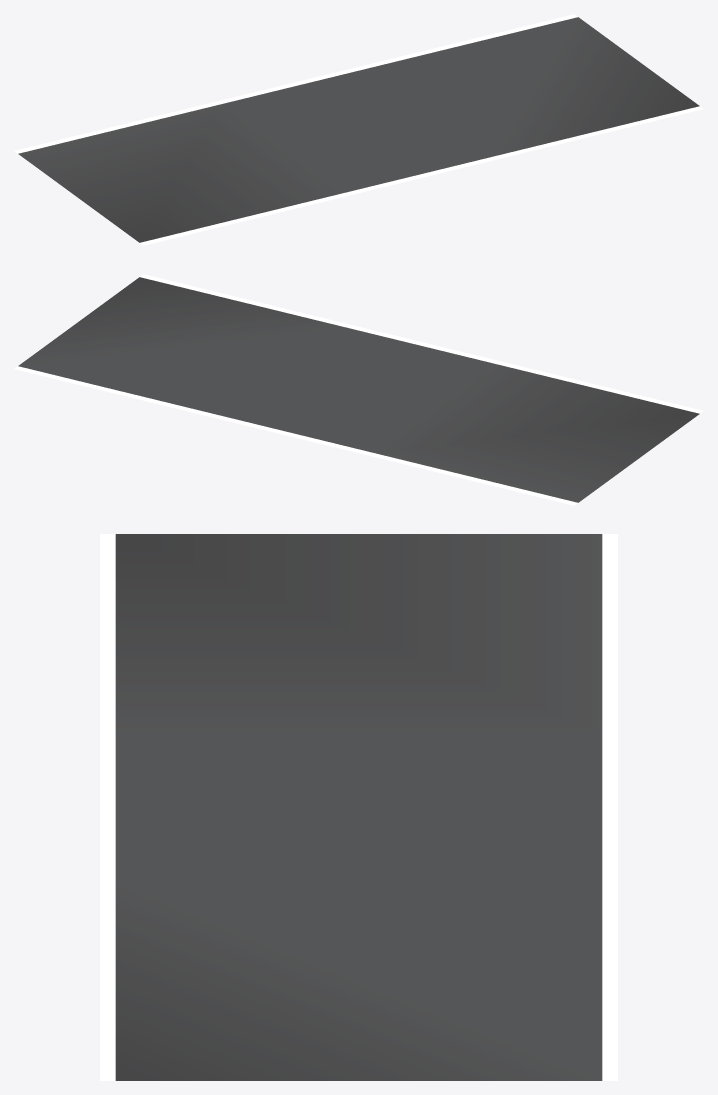
Rendered from pedestrian_crossing_001.glb.
3 views of the same model, one above another, from view 1: azimuth 30°, elevation 25°; view 2: azimuth 150°, elevation 25°; view 3: azimuth 270°, elevation 25° (orthographic). The views are drawn at different scales.
Visible parts, largest first — view 1: pedestrian_crossing_001; view 2: pedestrian_crossing_001; view 3: pedestrian_crossing_001.
Boxes of the visible parts, box(x1,y1,x2,y2) form: pedestrian_crossing_001: box(14, 14, 703, 245); pedestrian_crossing_001: box(14, 274, 703, 505); pedestrian_crossing_001: box(100, 534, 617, 1080).
Size of the model in its own units: 12.3 by 0 by 4.92.
Materials: 1 (1 with a texture image).
